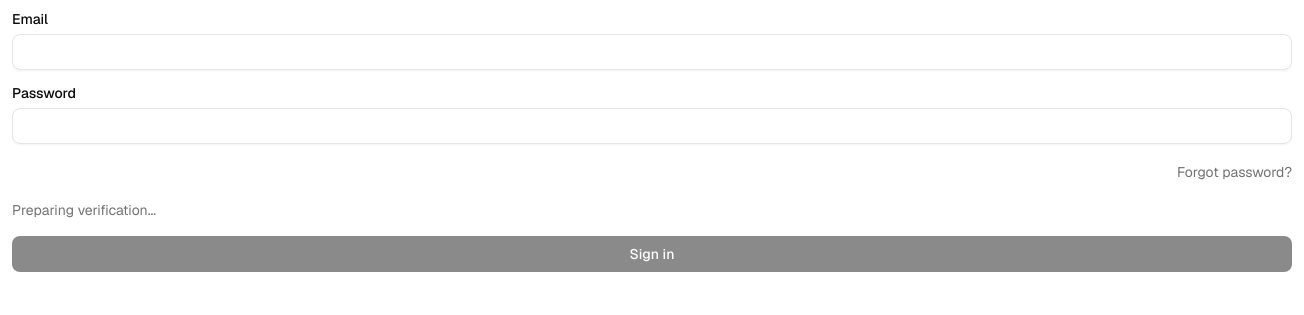
Scenario: LoginForm › shows API error when login fails
This screenshot has width=1304, height=315.
In the field labelled "Email": x=652, y=52 [12,34,1292,70], type "admin@example.com"
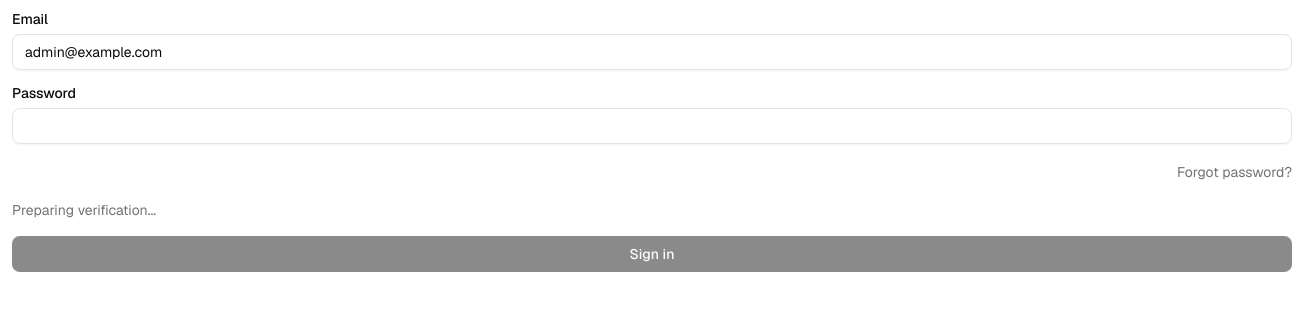
In the password field labelled "Password": x=652, y=126 [12,108,1292,144], type "wrong-password"
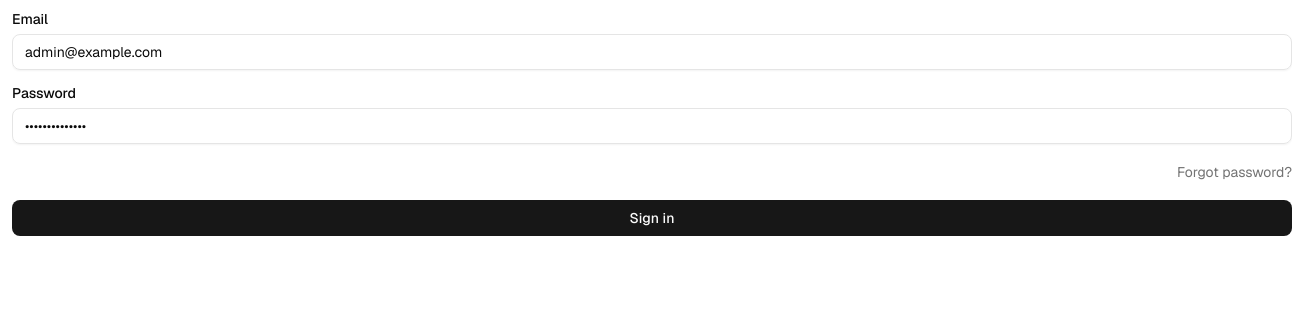
Expected: the button "Sign in" is enabled
Click the button "Sign in": x=652, y=218 [12,200,1292,236]
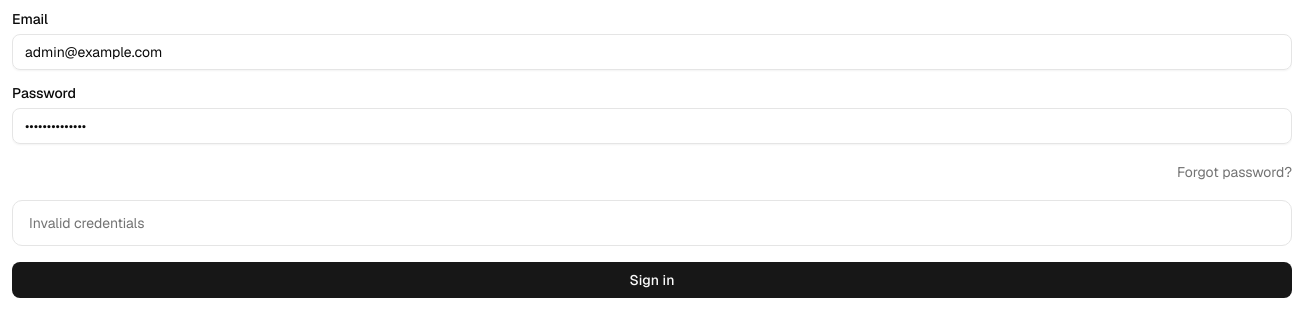
Expected: the text "Invalid credentials" is shown, [29,214,144,232]
